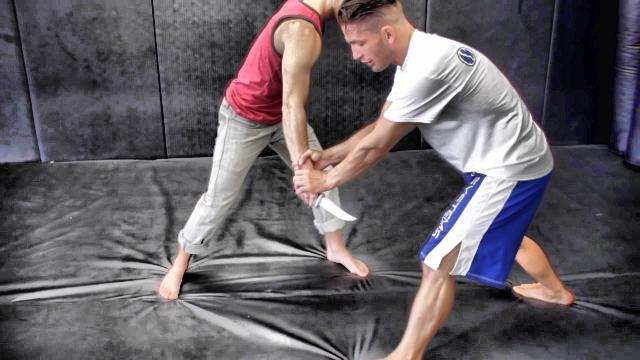knife: (290, 188, 362, 224)
